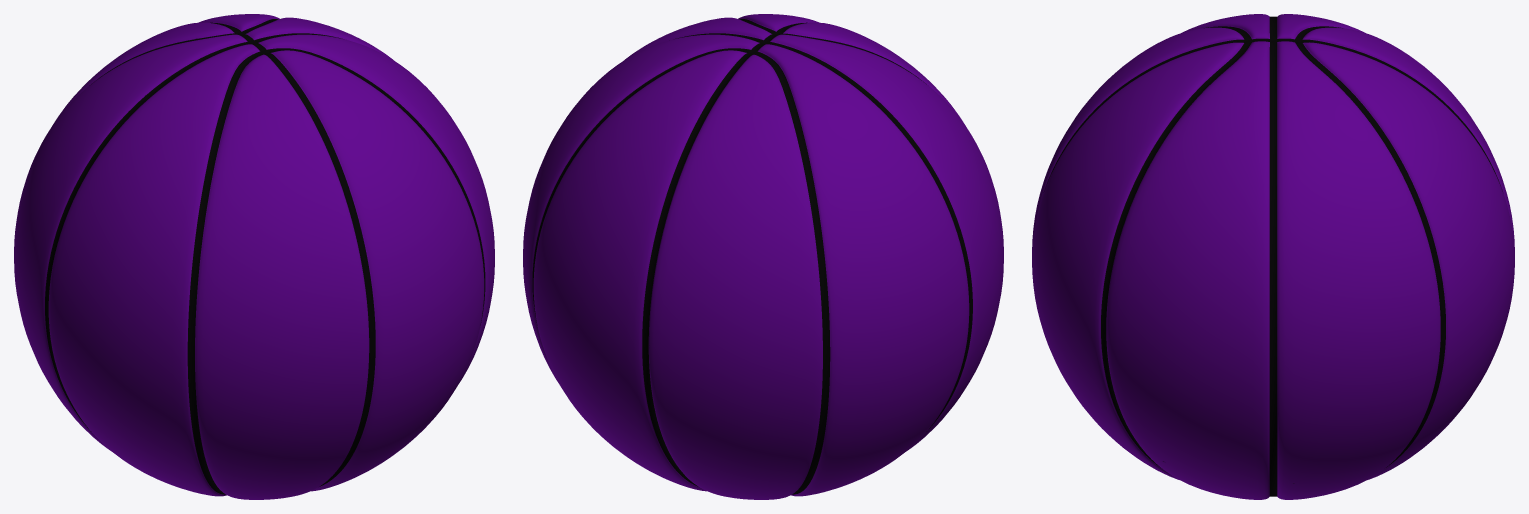
The model's file is item2.fbx.
3 views of the same model, side by side, from view 1: azimuth 30°, elevation 25°; view 2: azimuth 150°, elevation 25°; view 3: azimuth 270°, elevation 25° (orthographic).
Parts seen in each view (by area): view 1: Item0.002; view 2: Item0.002; view 3: Item0.002.
Boxes of the visible parts, <box> form: Item0.002: <box>14,14,494,499</box>; Item0.002: <box>523,14,1003,499</box>; Item0.002: <box>1032,14,1514,499</box>.
Bounding box in the file's own units: 193 × 194 × 193.
1 material, 1 textured.
